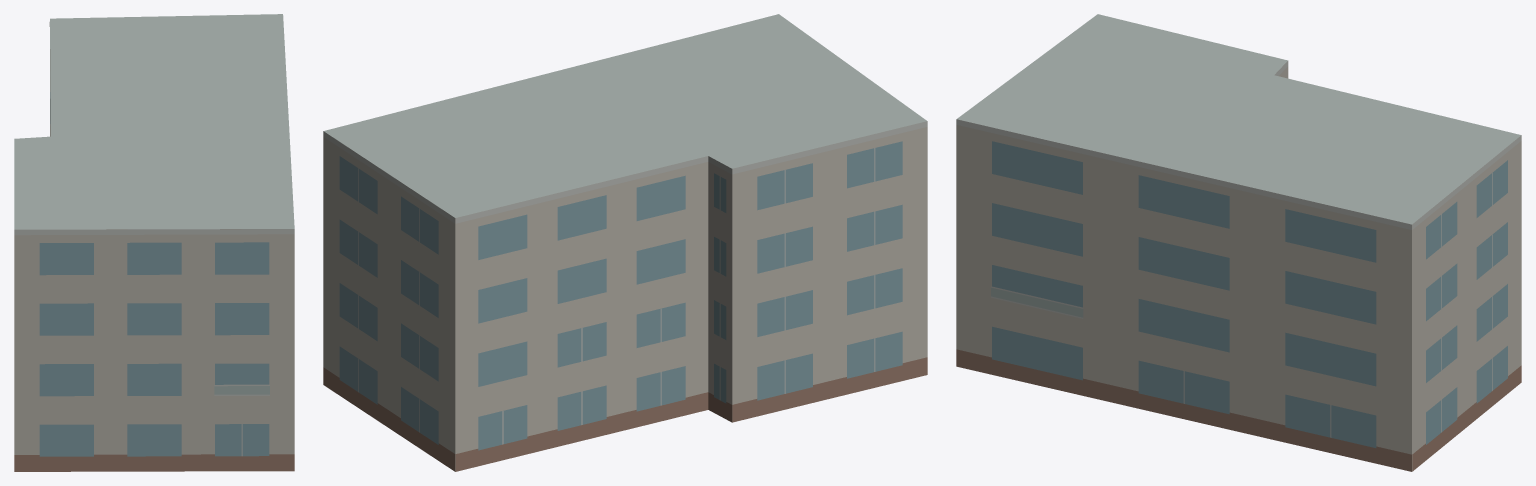
File: survey-upis-32987919.glb
The picture shows the model from 3 angles, left to right: view 1: azimuth 30°, elevation 25°; view 2: azimuth 150°, elevation 25°; view 3: azimuth 270°, elevation 25°; orthographic projection. The views are drawn at different scales.
Parts seen in each view (by area): view 1: survey-upis-32987919.tmp; view 2: survey-upis-32987919.tmp; view 3: survey-upis-32987919.tmp.
Part boxes in pixels (x1,y1,x2,y2): survey-upis-32987919.tmp: (14,14,294,471); survey-upis-32987919.tmp: (323,14,927,471); survey-upis-32987919.tmp: (956,14,1521,471).
Size of the model in its own units: 19.73 by 10.8 by 22.38.
